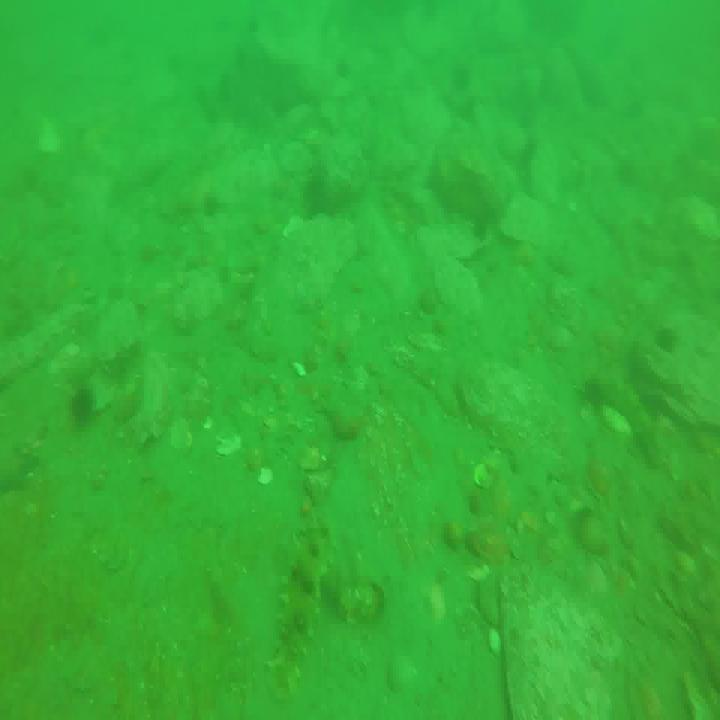echinus: (71, 379, 96, 428)
holothurian: (272, 513, 334, 697), (582, 370, 670, 469)
